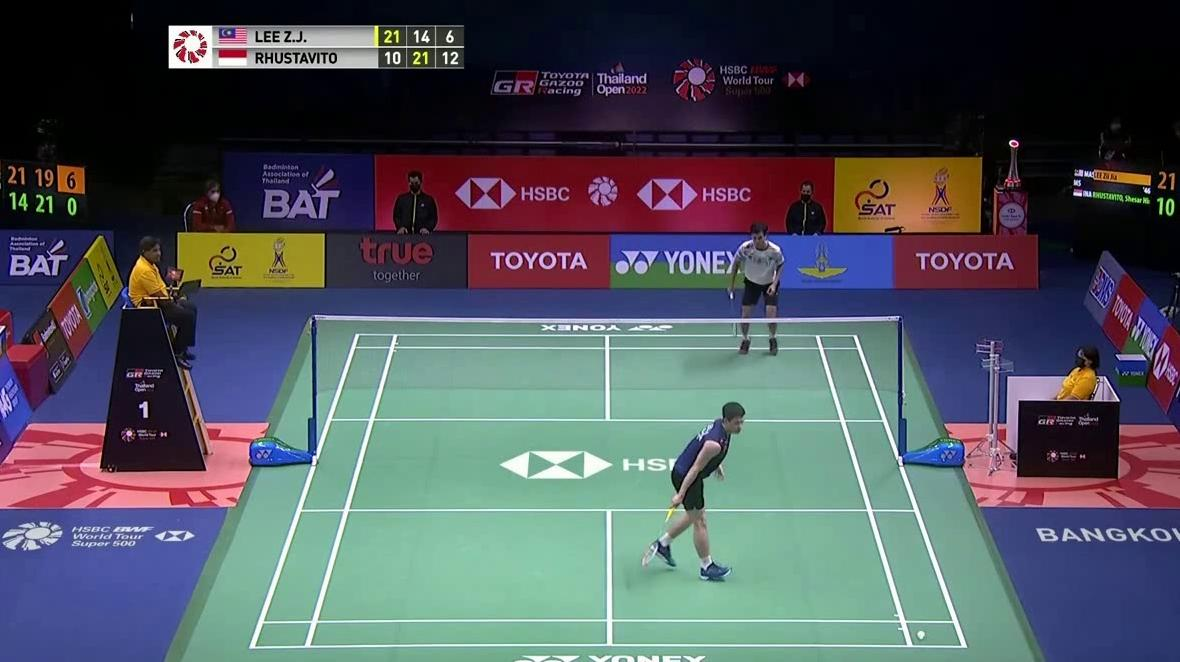racket: (640, 500, 681, 569), (727, 288, 743, 339)
shuttle: (916, 629, 927, 643)
